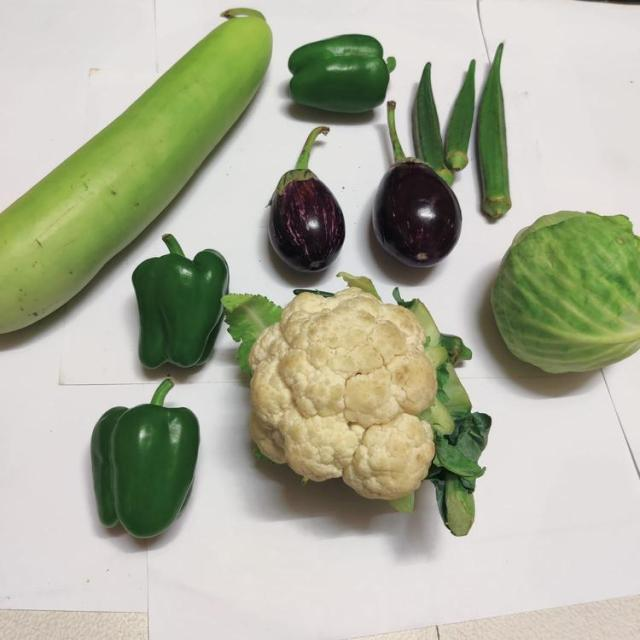Organik: (235, 273, 501, 542), (497, 209, 640, 383), (89, 380, 201, 543), (125, 226, 232, 374), (256, 120, 351, 284), (375, 105, 468, 272), (280, 30, 402, 119), (476, 29, 509, 238)
